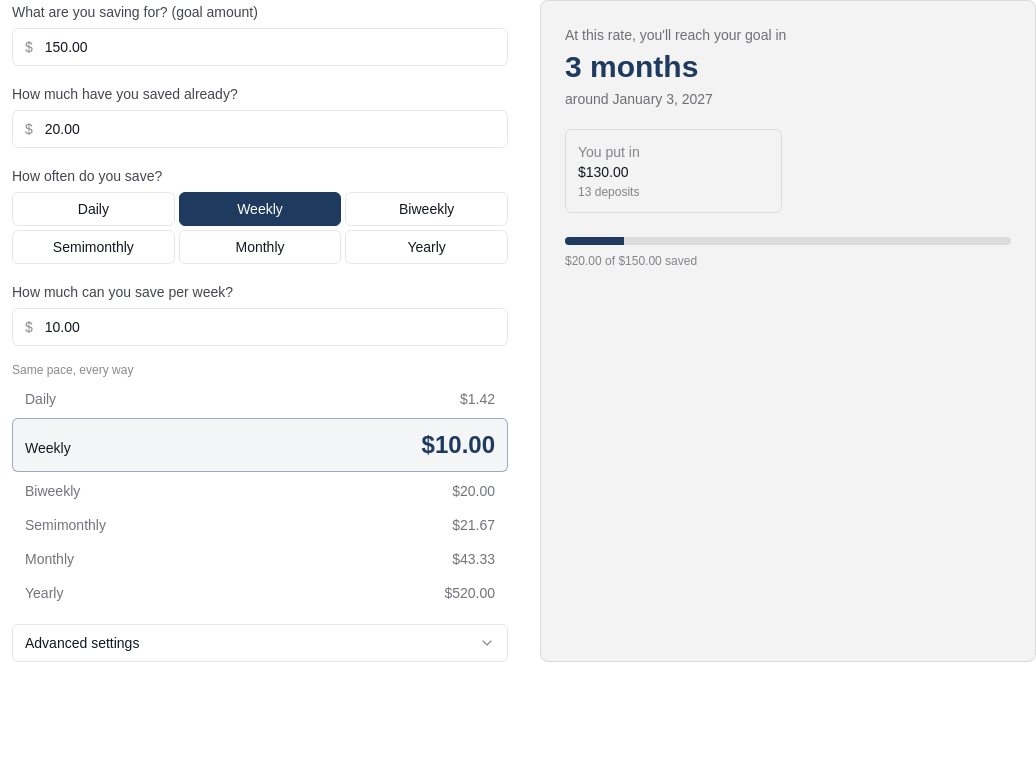
Test: Sinking Fund Calculator › shows the same pace for every frequency
Click the button "Daily". click: {"x": 93, "y": 209}
box: 12,192 -> 175,226
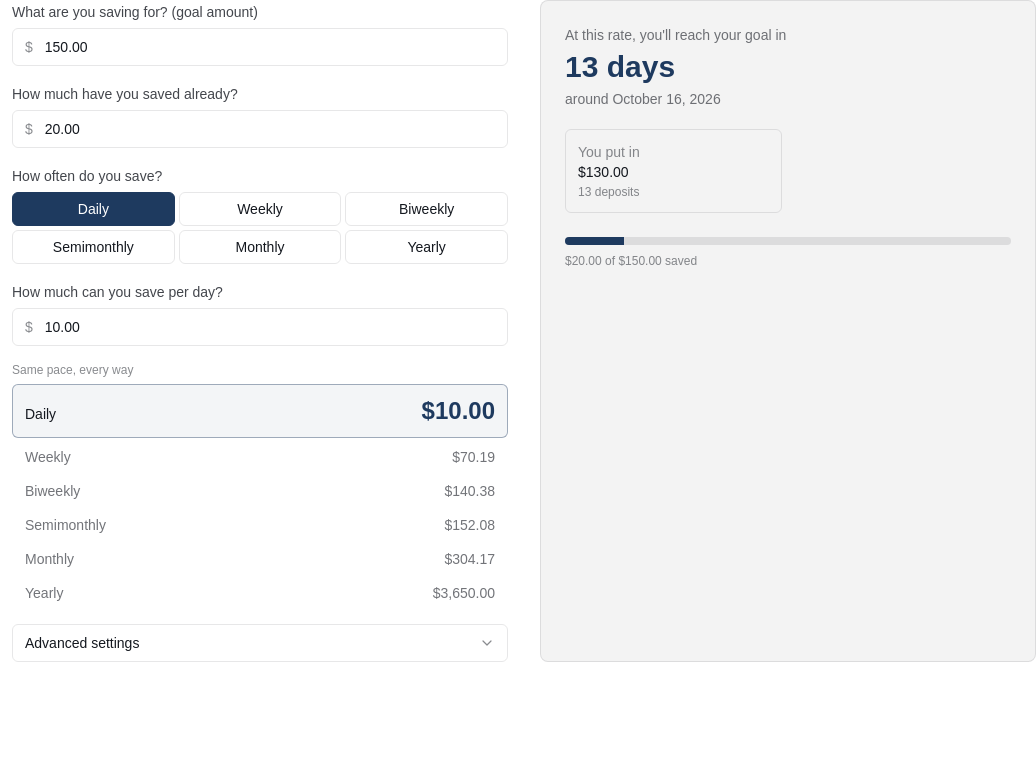
Check: the text "How much can you save per day?" is shown, box 12,284 -> 223,300
Check: the text "$3,650.00" is shown, box 433,583 -> 495,603
